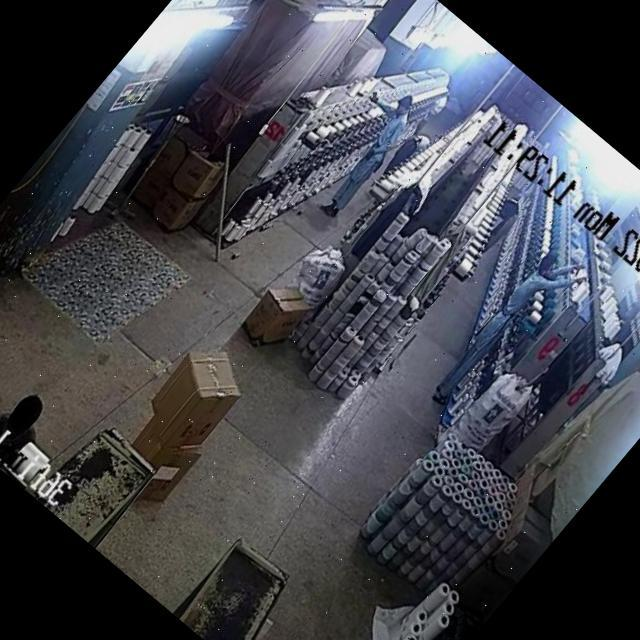person: (424, 236, 576, 407), (322, 92, 425, 208), (0, 376, 57, 459), (469, 192, 528, 258)
